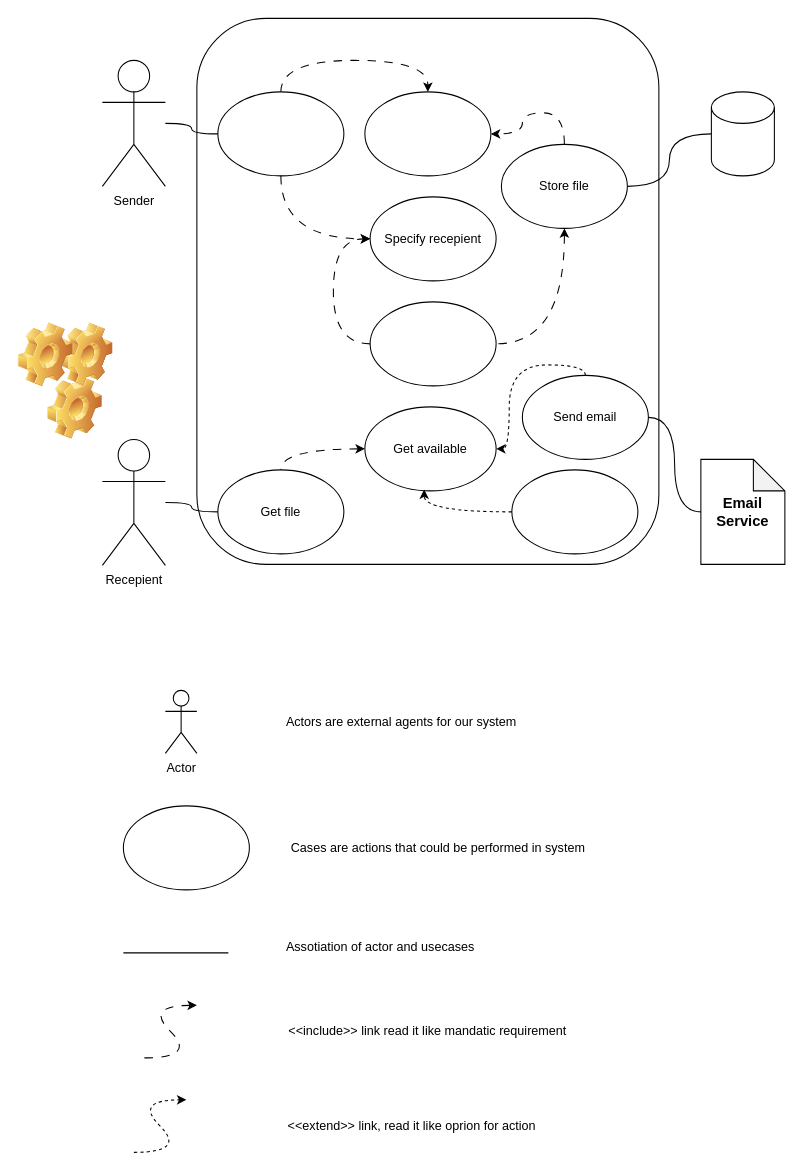
This 803x1171 diagram has some shape labels left out. The centre of each missing label's shape, as x and y in pixels:
File Storage: (x=742, y=133)
Get file list: (x=574, y=511)
Save file recepient: (x=432, y=343)
Send file: (x=280, y=133)
Upload file: (x=427, y=133)
